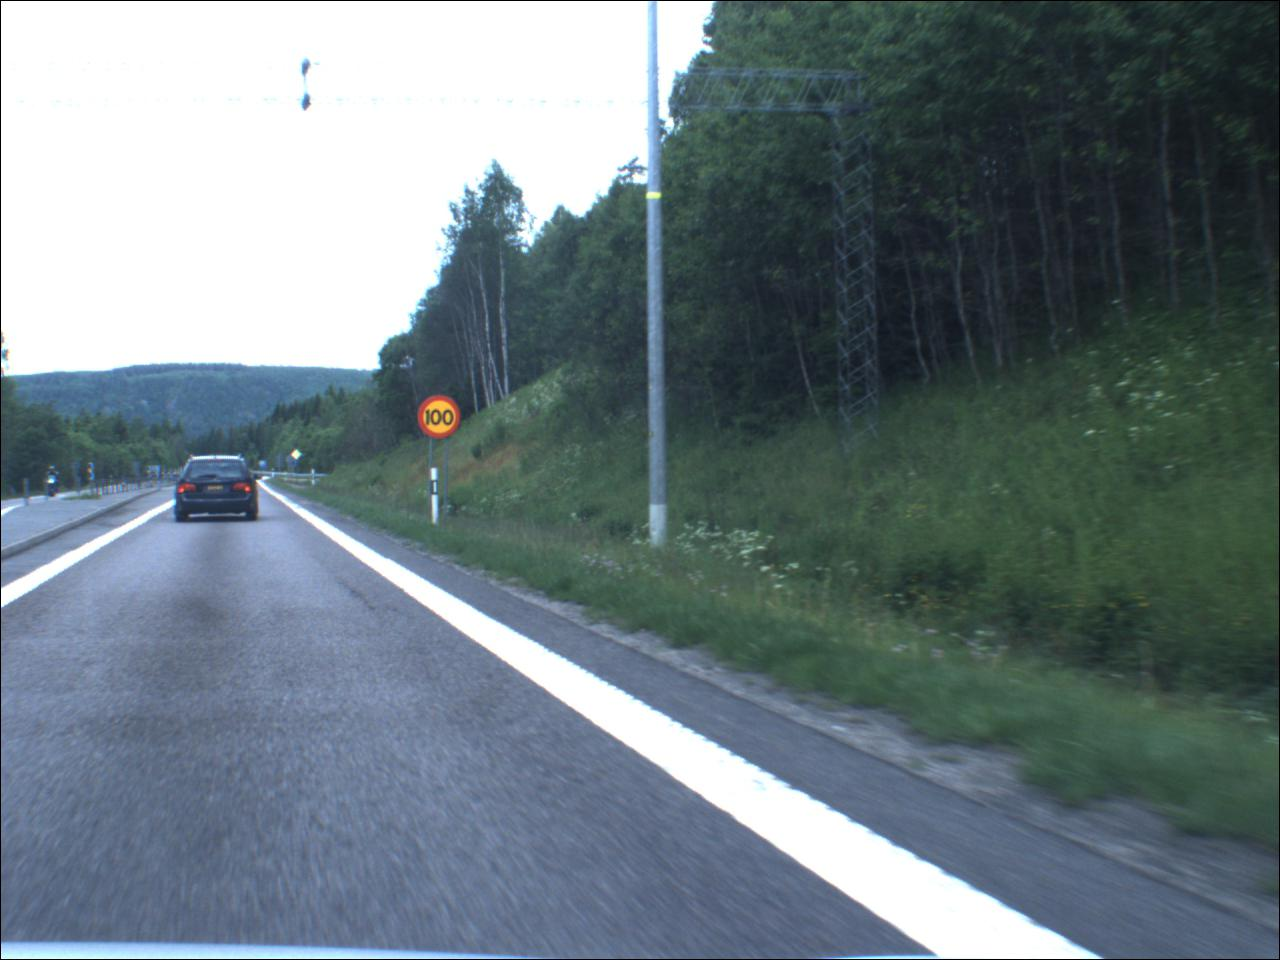100_SIGN: (420, 394, 465, 441)
PRIORITY_ROAD: (293, 449, 304, 463)
